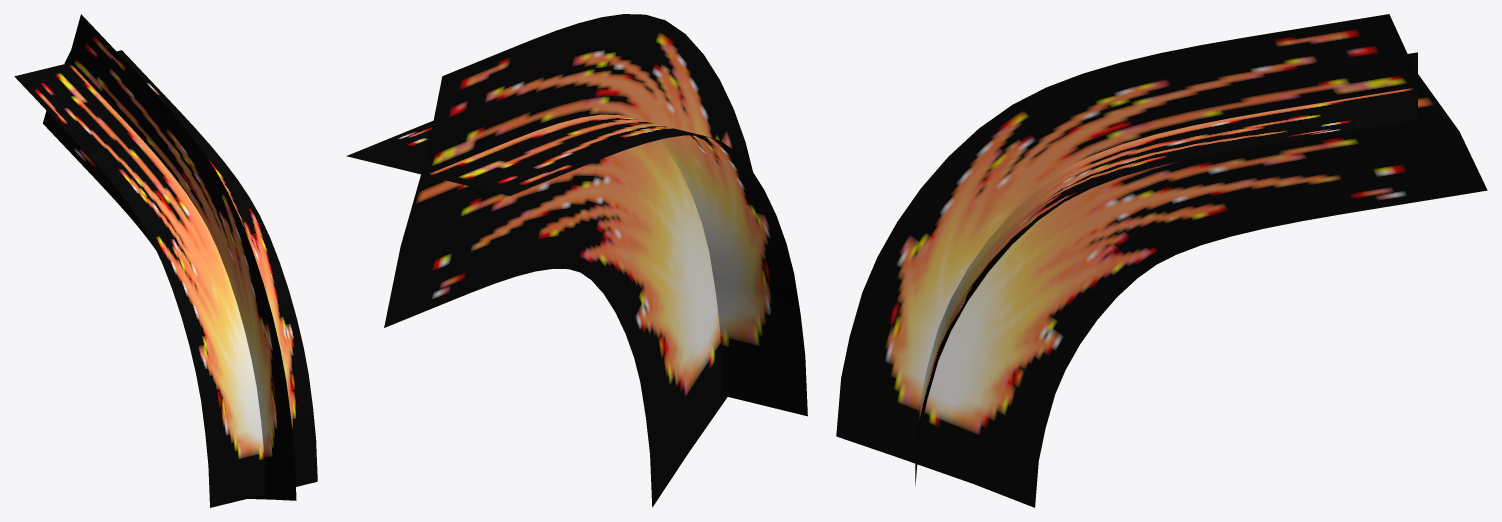
File: chuizi.FBX
3 renders of one model, left to right at view 1: azimuth 30°, elevation 25°; view 2: azimuth 150°, elevation 25°; view 3: azimuth 270°, elevation 25°, orthographic. The views are drawn at different scales.
Parts seen in each view (by area): view 1: Plane003; view 2: Plane003; view 3: Plane003.
Part boxes in pixels (box(x1,y1,x2,y2)): Plane003: box(14, 14, 317, 507); Plane003: box(346, 14, 807, 507); Plane003: box(836, 14, 1487, 507).
Bounding box in the file's own units: 1.16 × 4.75 × 3.97.
